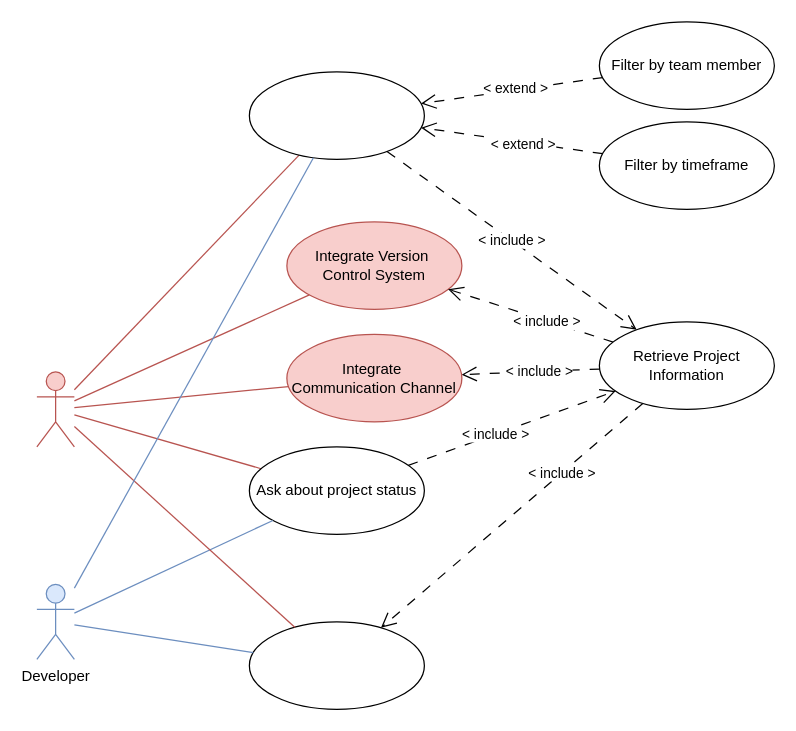
Image size: 796x731. Some labels were removed from this diagram. The box of each missing label's shape, as (x1, y1, x2, y2) in pixels:
Create report: (248, 71, 424, 159)
Project Manager: (36, 371, 74, 447)
Upload Meeting Notes: (248, 621, 424, 709)
